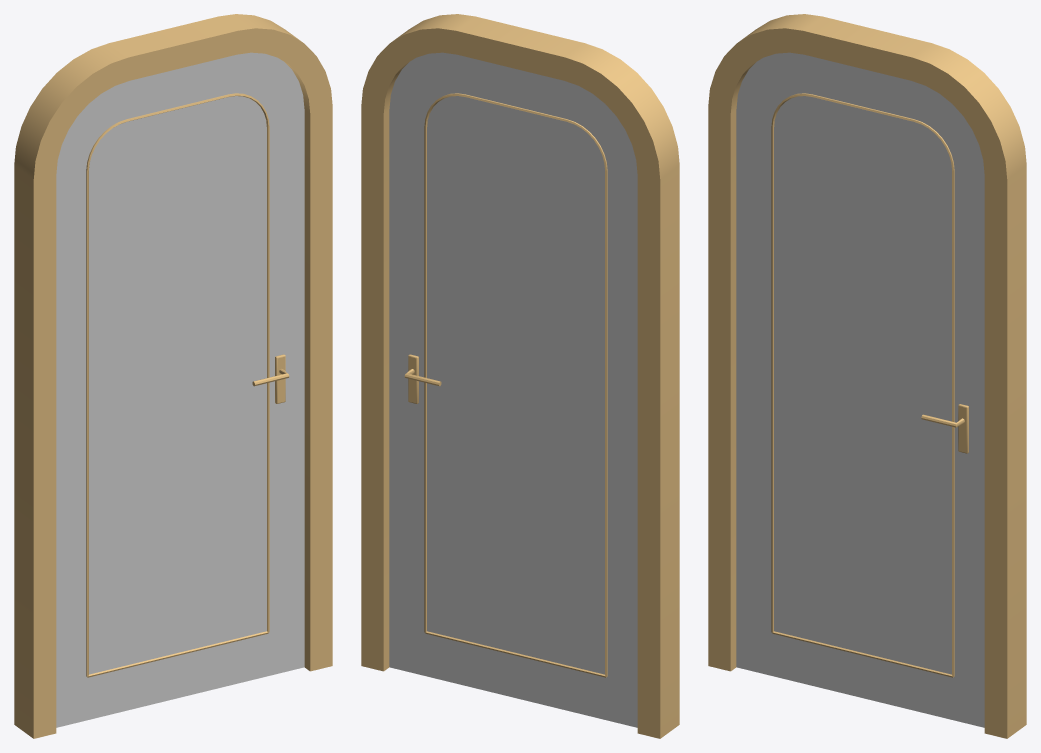
The model's file is JAC_38_Porta.glb.
The picture shows the model from 3 angles, left to right: view 1: azimuth 30°, elevation 25°; view 2: azimuth 150°, elevation 25°; view 3: azimuth 330°, elevation 25°; orthographic projection.
Visible parts, largest first — view 1: JAC_38_Porta; view 2: JAC_38_Porta; view 3: JAC_38_Porta.
Boxes of the visible parts, x1,y1,x2,y2 form: JAC_38_Porta: (14,14,332,738); JAC_38_Porta: (361,14,679,738); JAC_38_Porta: (708,14,1026,738).
Bounding box in the file's own units: 1.06 × 2.23 × 0.17.
